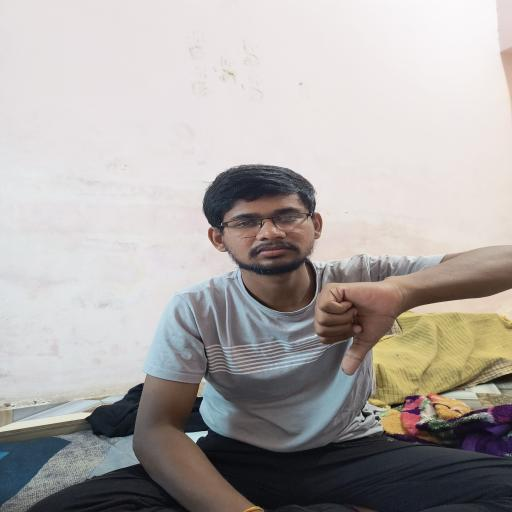Continue: (305, 276, 406, 378)
